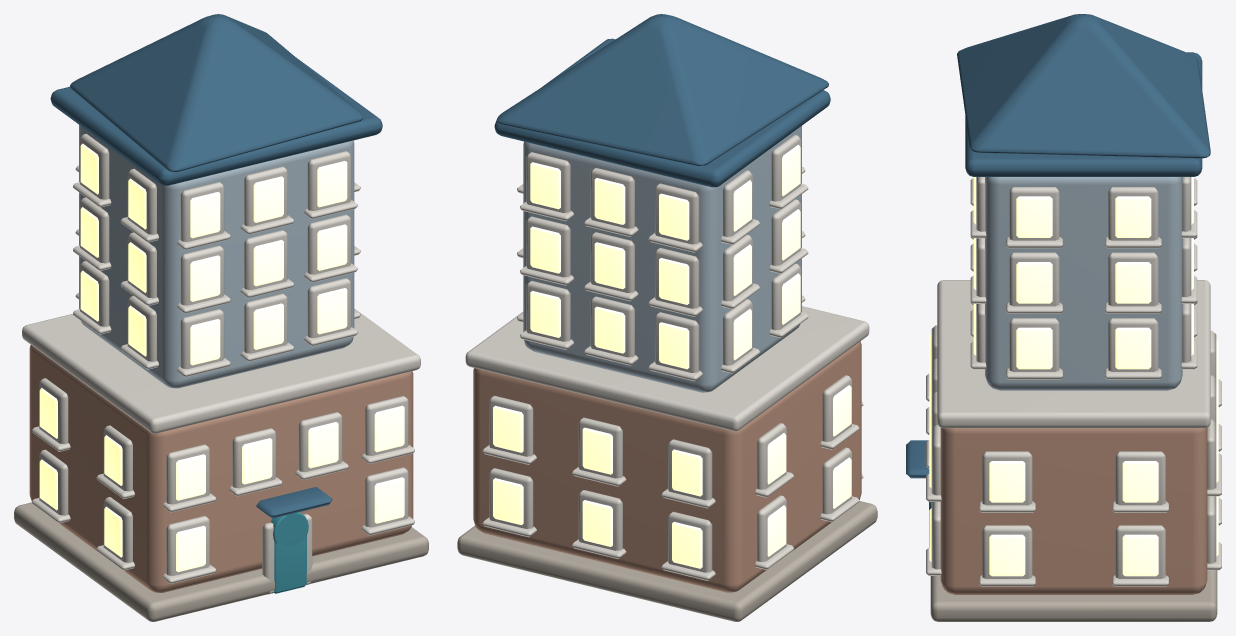
3 views of the same model, side by side, from view 1: azimuth 30°, elevation 25°; view 2: azimuth 150°, elevation 25°; view 3: azimuth 270°, elevation 25° (orthographic). The views are drawn at different scales.
Visible parts, largest first — view 1: Cube; view 2: Cube; view 3: Cube.
Boxes of the visible parts, bbox=[...] form: Cube: bbox=[14, 14, 428, 621]; Cube: bbox=[457, 14, 877, 621]; Cube: bbox=[906, 14, 1221, 621].
Size of the model in its own units: 0.699 by 1.2 by 0.6395.
